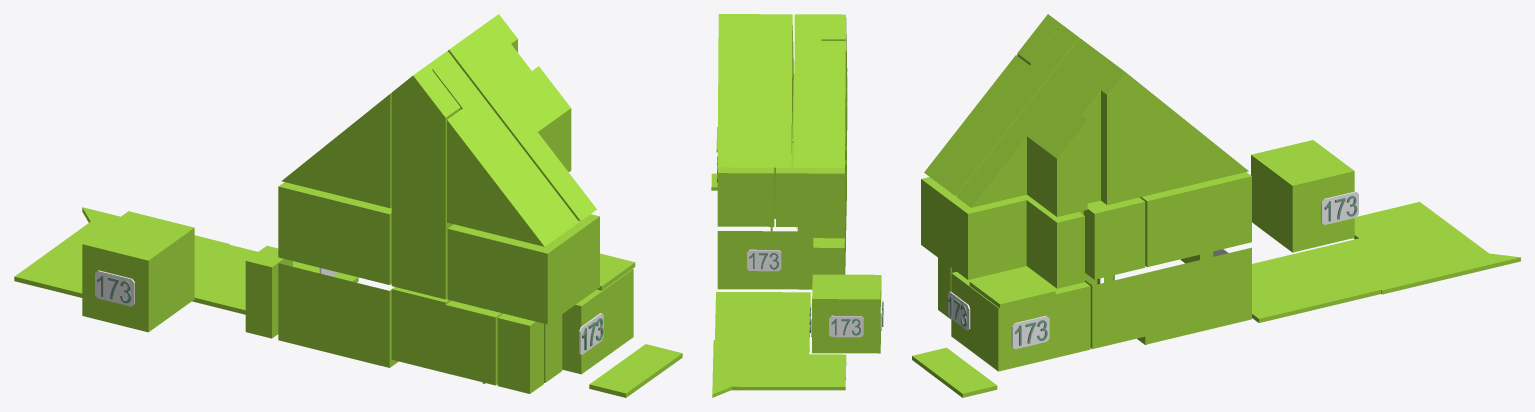
3 views of the same model, side by side, from view 1: azimuth 30°, elevation 25°; view 2: azimuth 150°, elevation 25°; view 3: azimuth 270°, elevation 25° (orthographic). The views are drawn at different scales.
Parts seen in each view (by area): view 1: g_7, g_11, g_6, g_5, g_2, g_0, g_9, g_8, g_17, g_14, g_1, g_4 (+4 smaller); view 2: g_6, g_17, g_7, g_0, g_5, g_9, g_10, g_3, g_8, g_29, g_41, g_2 (+1 smaller); view 3: g_6, g_17, g_11, g_0, g_5, g_1, g_10, g_7, g_12, g_15, g_16, g_8 (+3 smaller).
Part boxes in pixels (x1,y1,x2,y2): g_7: (281,51,578,246); g_11: (447,214,599,324); g_6: (448,14,596,220); g_5: (82,211,194,332); g_2: (391,287,562,385); g_0: (278,263,398,367); g_9: (278,182,391,284); g_8: (391,63,460,222); g_17: (14,207,358,314); g_14: (391,209,453,299); g_1: (562,269,633,374); g_4: (497,313,543,393); g_6: (717,14,793,167); g_17: (712,292,846,397); g_7: (793,14,847,167); g_0: (717,194,845,289); g_5: (812,274,881,353); g_9: (776,132,845,226); g_10: (717,167,775,226); g_3: (813,238,844,274); g_8: (821,14,846,116); g_29: (747,249,781,271); g_41: (829,315,863,337); g_2: (797,160,846,231); g_6: (956,38,1248,216); g_17: (1252,202,1520,322); g_11: (921,177,1084,288); g_0: (1085,247,1251,348); g_5: (1251,140,1354,252); g_1: (951,266,1090,371); g_10: (1140,172,1251,267); g_7: (924,25,1079,195); g_12: (1083,197,1145,279); g_15: (912,347,997,397); g_16: (969,268,1055,308); g_8: (1017,14,1062,65).
Bounding box in the file's own units: 14.95 × 10.25 × 20.03.
